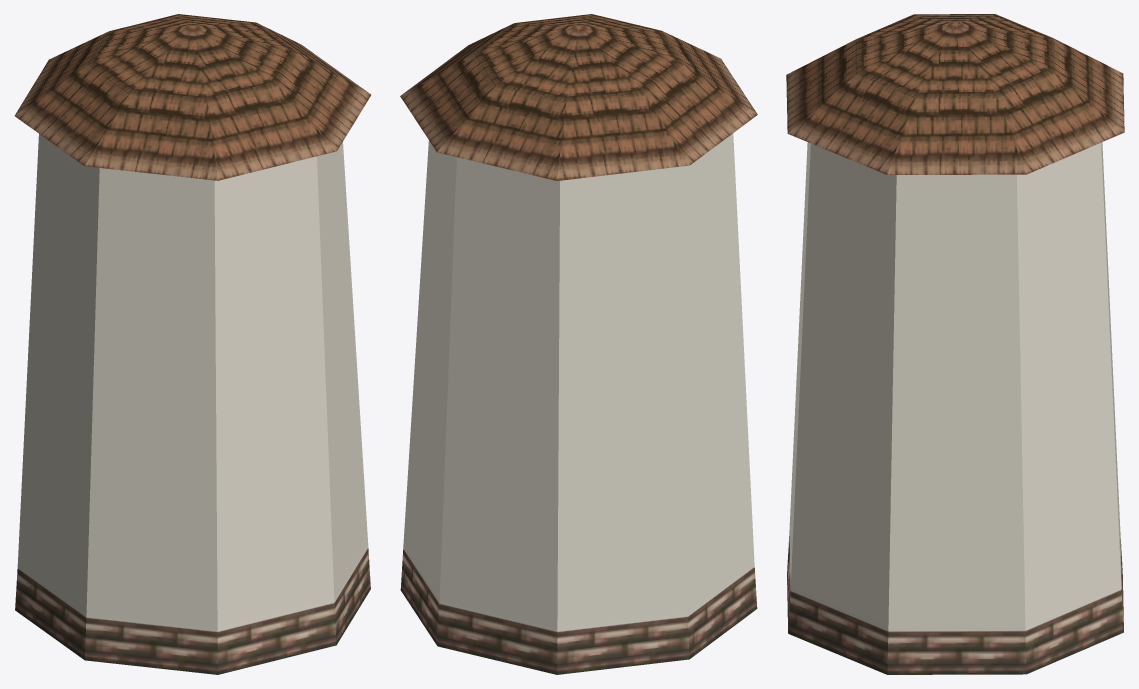
The model's file is silo.fbx.
3 views of the same model, side by side, from view 1: azimuth 30°, elevation 25°; view 2: azimuth 150°, elevation 25°; view 3: azimuth 270°, elevation 25° (orthographic).
Visible parts, largest first — view 1: silo; view 2: silo; view 3: silo.
Part boxes in pixels (x1,y1,x2,y2): silo: [14, 14, 371, 674]; silo: [400, 14, 757, 674]; silo: [786, 14, 1124, 674].
Size of the model in its own units: 87.79 by 166 by 87.79.
